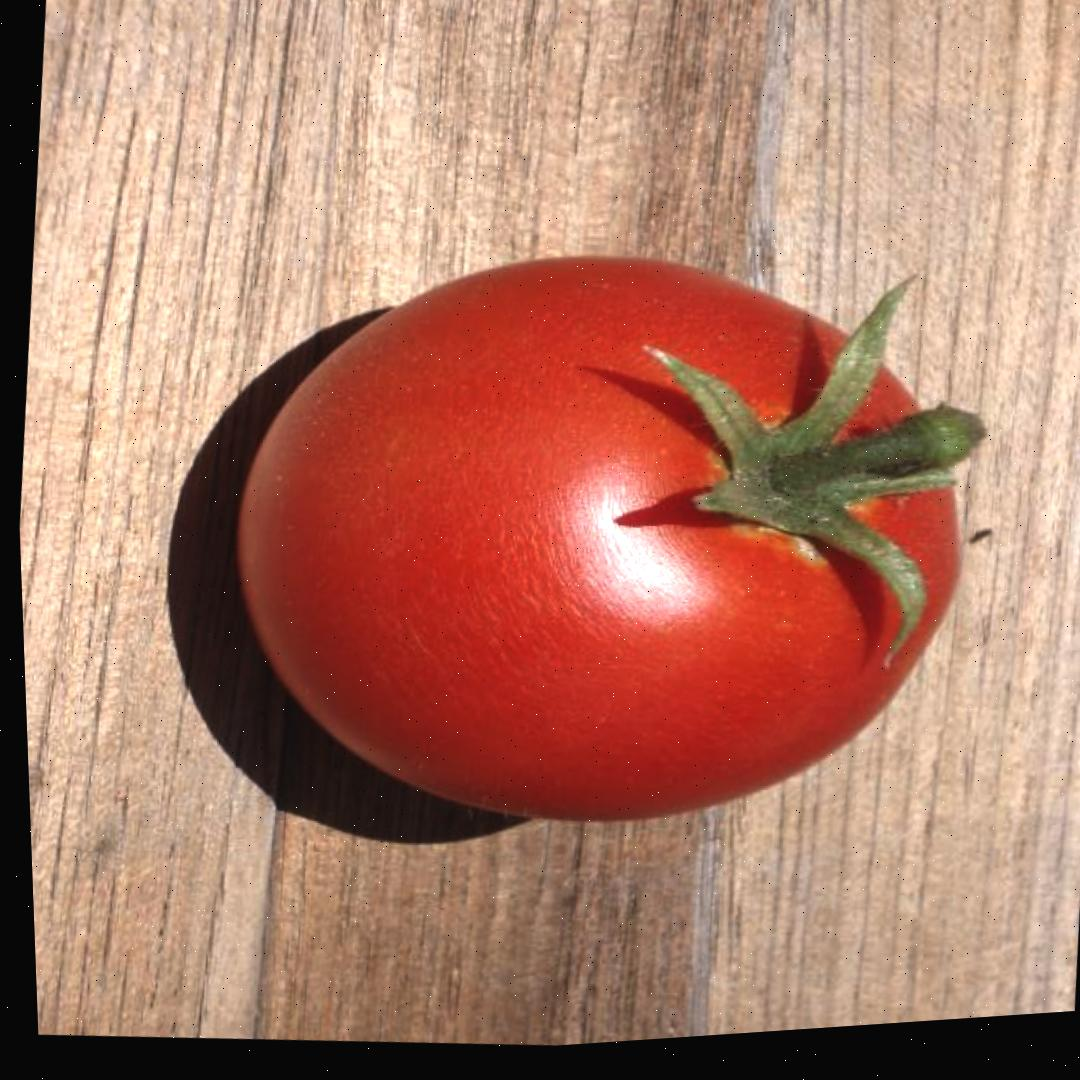matang: (196, 196, 1021, 883)
